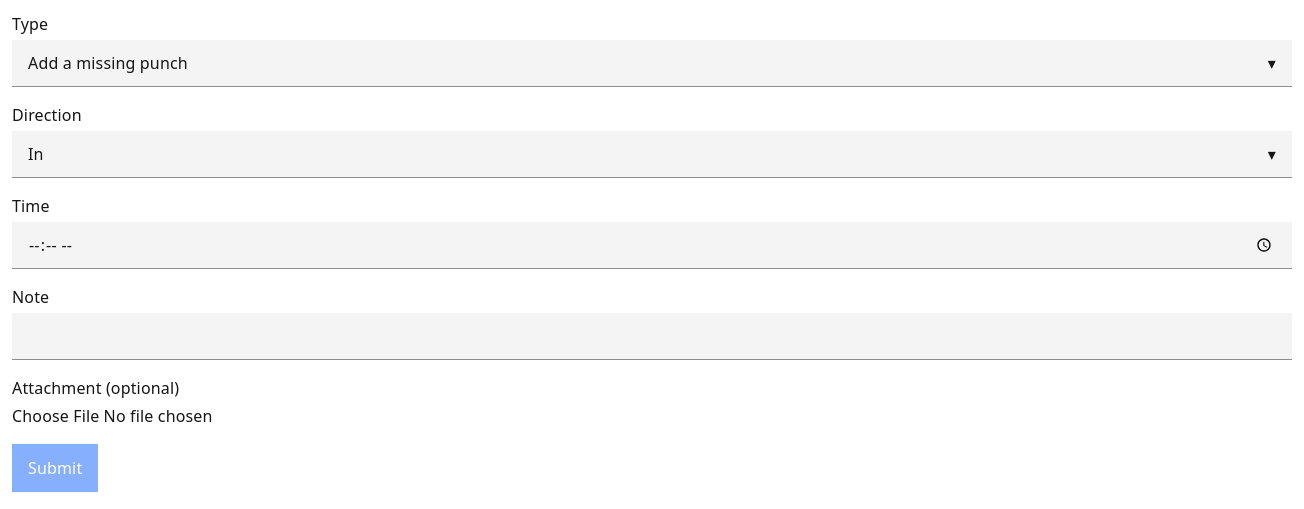
CorrectionForm › disables submit for "void" until a target punch is chosen
The image size is (1304, 509).
Click the dropdown named "Type".
click(108, 63)  # box 12,40 -> 1292,87
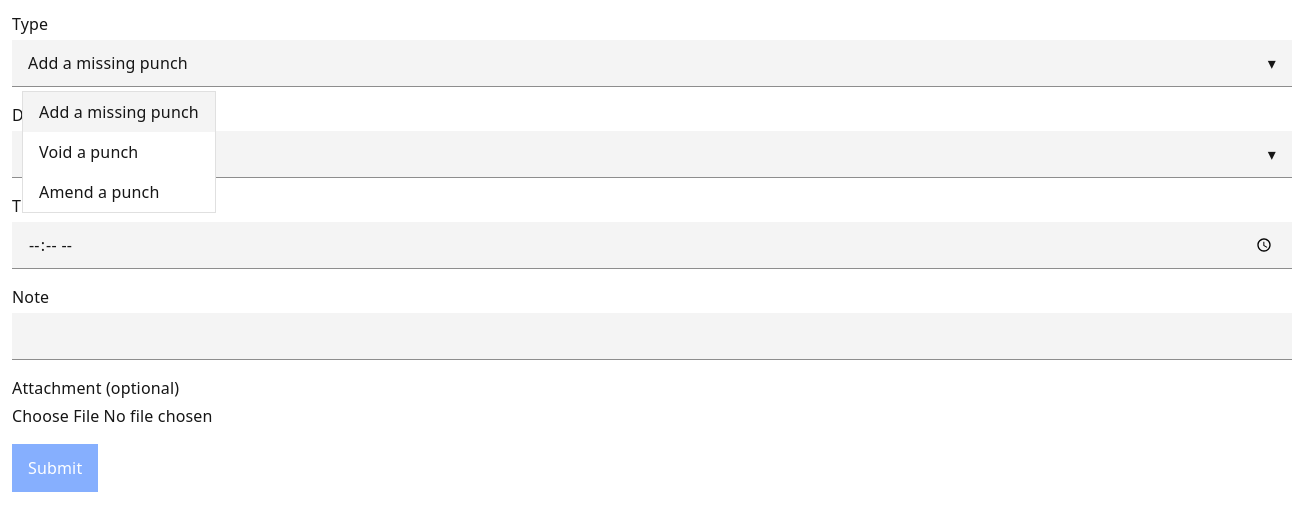
Click the option "Void a punch".
click(89, 152)  # box 39,141 -> 138,163
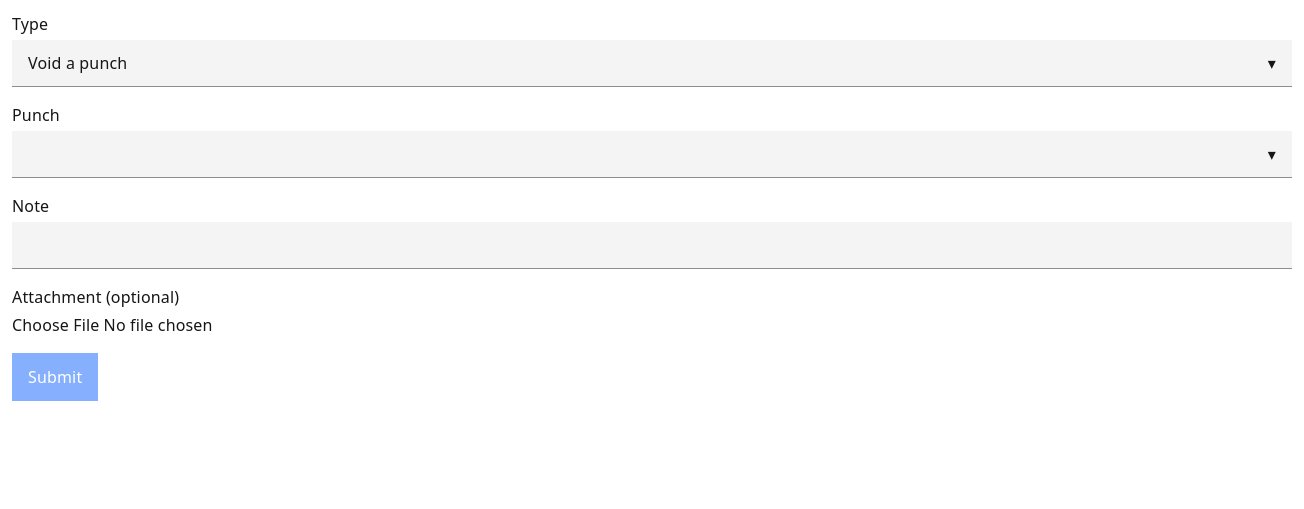
Type "Duplicate" into the field labelled "Note".
click(652, 246); type("Duplicate")  # box 12,222 -> 1292,269
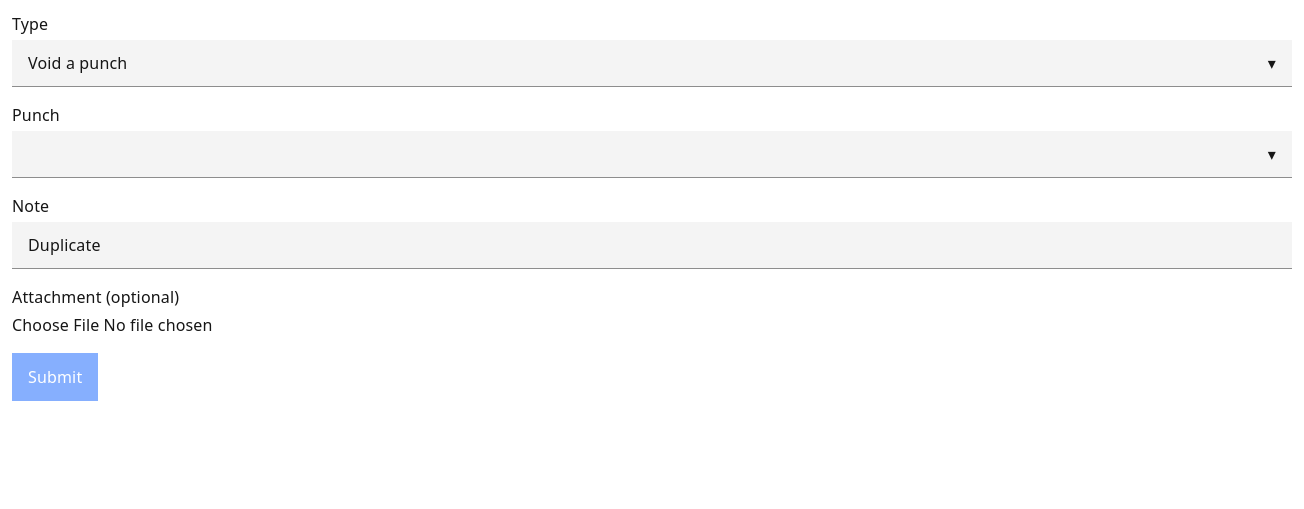
Expected: the button "Submit" is disabled, 12,353 -> 98,401
Click the dropdown named "Punch".
click(1272, 154)  # box 12,131 -> 1292,178
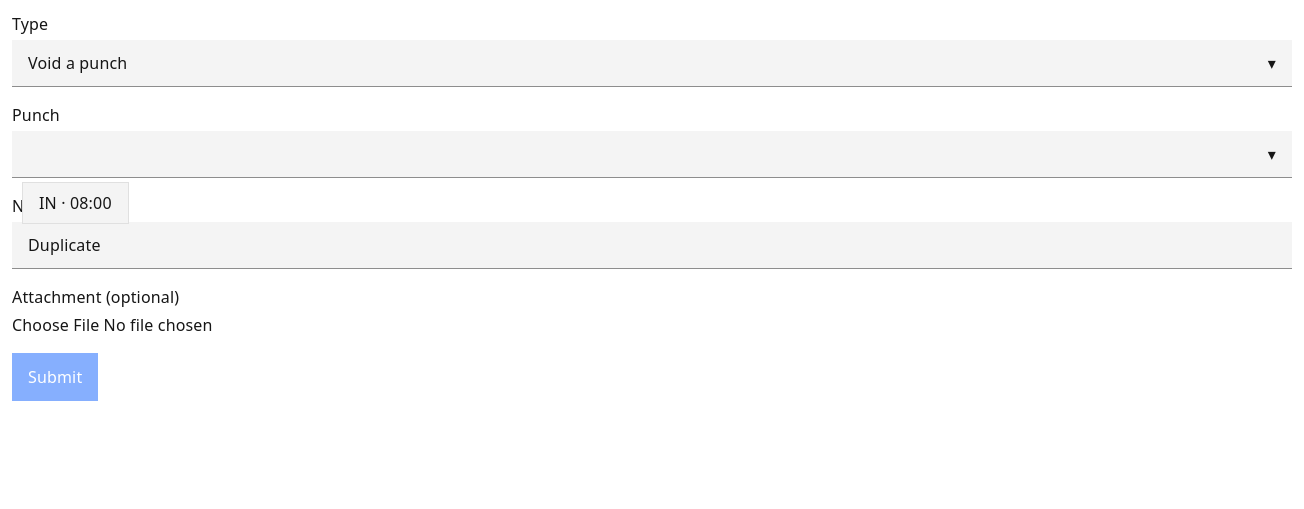
Click the option "IN · 08:00".
click(75, 203)  # box 23,183 -> 128,223
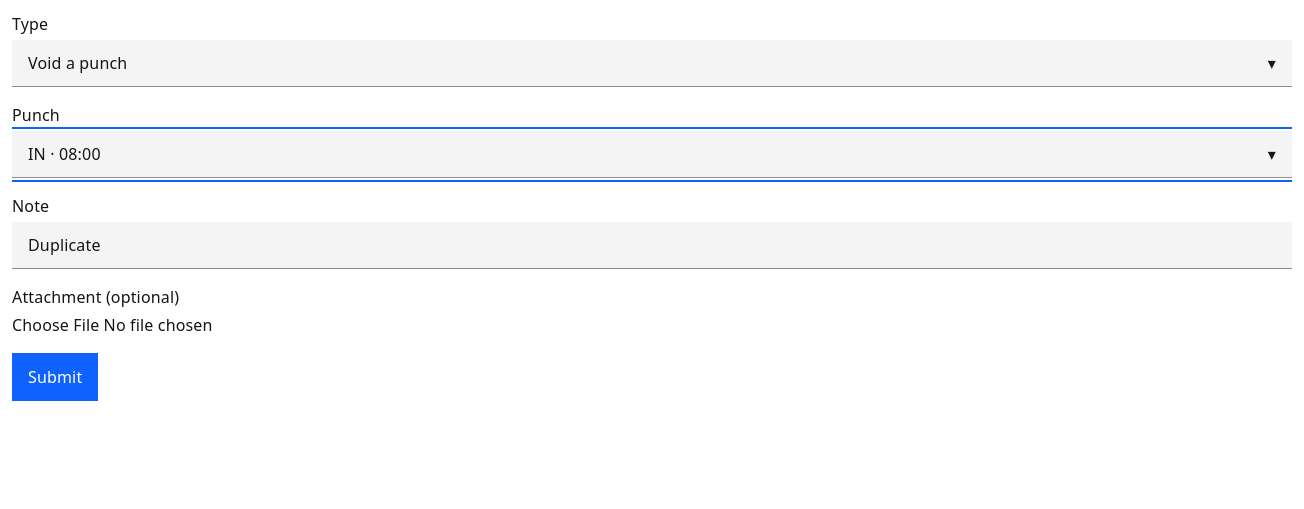
Expected: the button "Submit" is enabled, 12,353 -> 98,401
